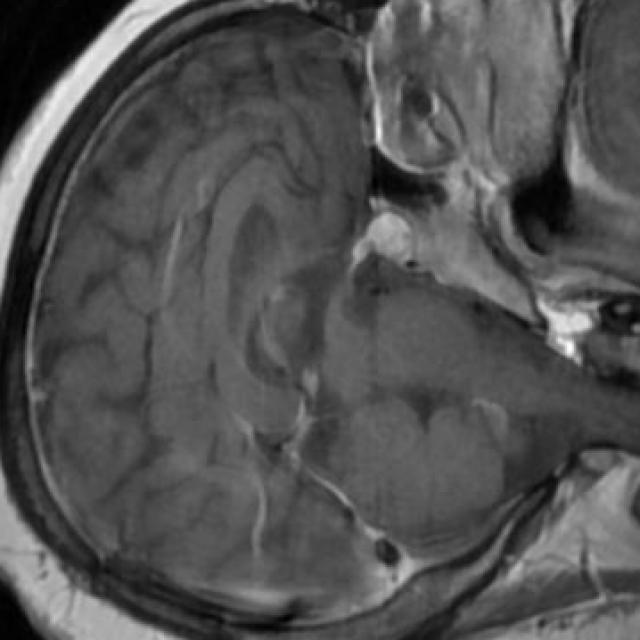pituitary: (367, 214, 408, 262)
